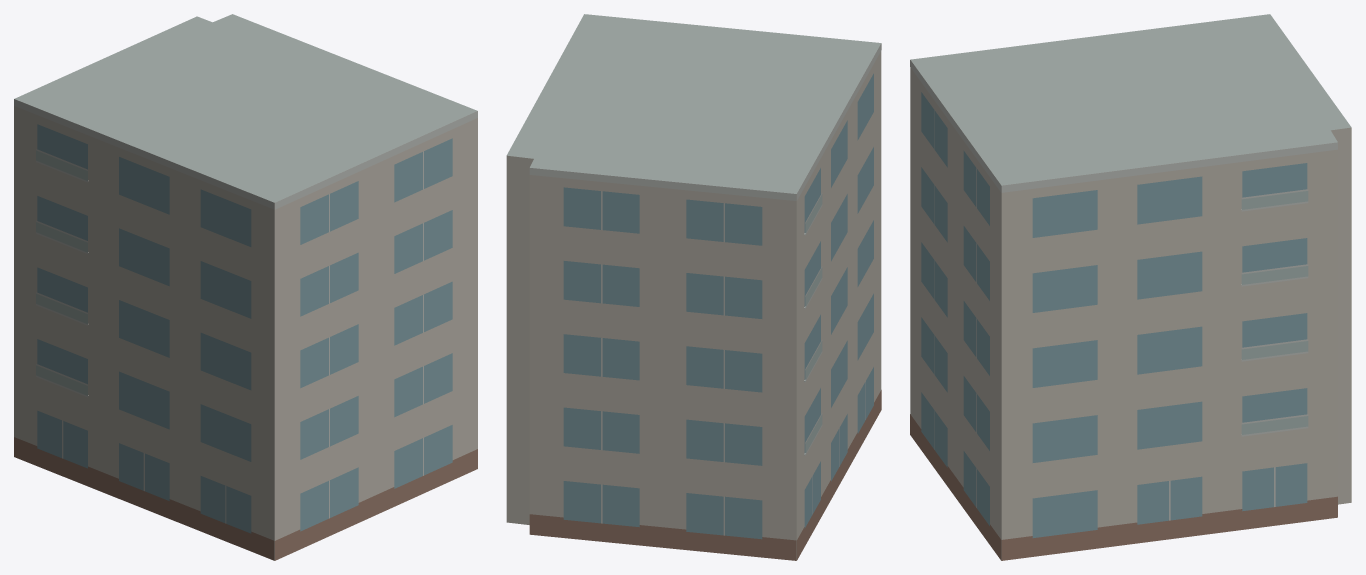
Rendered from survey-upis-32524204.glb.
3 renders of one model, left to right at view 1: azimuth 30°, elevation 25°; view 2: azimuth 150°, elevation 25°; view 3: azimuth 270°, elevation 25°, orthographic. The views are drawn at different scales.
Parts seen in each view (by area): view 1: survey-upis-32524204.tmp; view 2: survey-upis-32524204.tmp; view 3: survey-upis-32524204.tmp.
Part boxes in pixels (box(x1,y1,x2,y2)): survey-upis-32524204.tmp: box(14, 14, 477, 560); survey-upis-32524204.tmp: box(506, 14, 881, 560); survey-upis-32524204.tmp: box(910, 14, 1351, 560).
Size of the model in its own units: 12.36 by 12.59 by 13.44.
